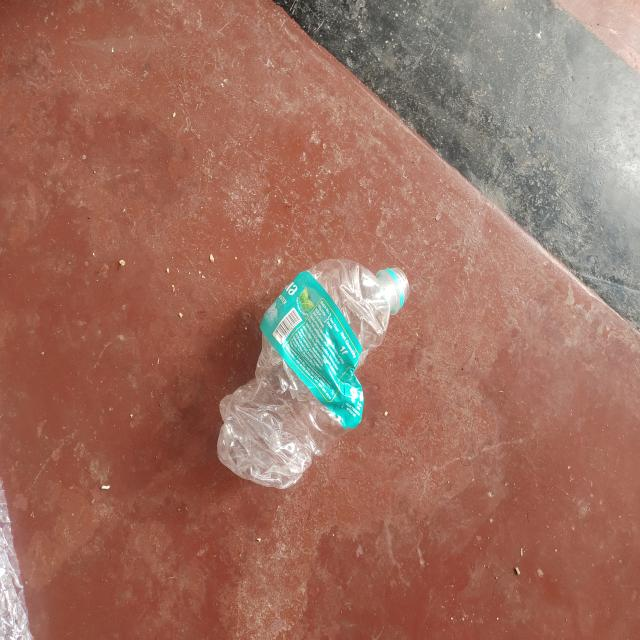plastic: (215, 255, 411, 489)
